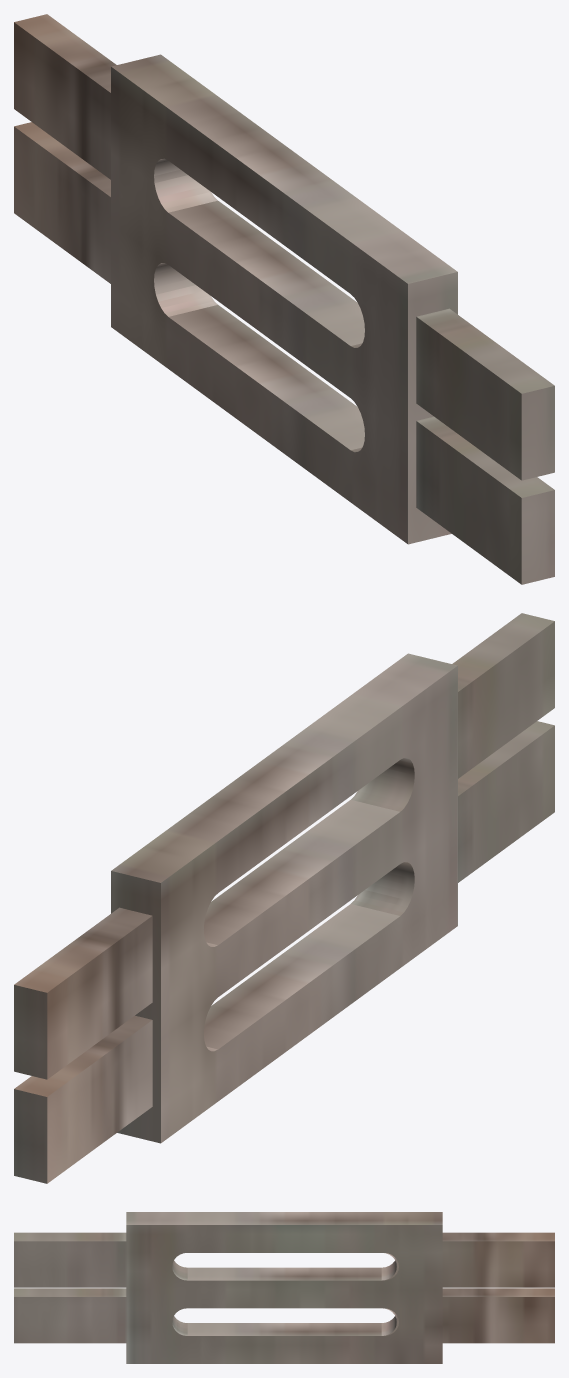
The model's file is original-27.obj.
3 views of the same model, one above another, from view 1: azimuth 30°, elevation 25°; view 2: azimuth 150°, elevation 25°; view 3: azimuth 270°, elevation 25° (orthographic). The views are drawn at different scales.
Visible parts, largest first — view 1: Rail3_1/Rail3/mesh44/mesh44-geometry#mesh44-geometry; view 2: Rail3_1/Rail3/mesh44/mesh44-geometry#mesh44-geometry; view 3: Rail3_1/Rail3/mesh44/mesh44-geometry#mesh44-geometry.
Part boxes in pixels (bbox=[...]): Rail3_1/Rail3/mesh44/mesh44-geometry#mesh44-geometry: bbox=[14, 14, 554, 584]; Rail3_1/Rail3/mesh44/mesh44-geometry#mesh44-geometry: bbox=[14, 613, 554, 1183]; Rail3_1/Rail3/mesh44/mesh44-geometry#mesh44-geometry: bbox=[14, 1212, 554, 1363].
Bounding box in the file's own units: 0.0273 × 0.1364 × 0.482.
